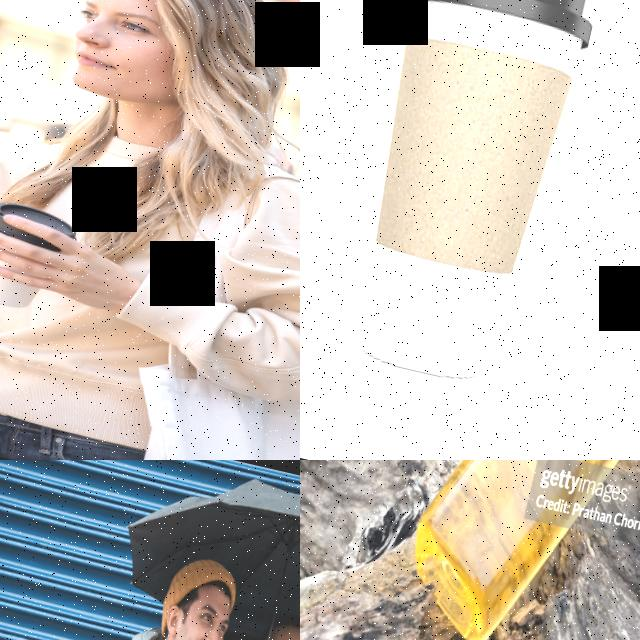bottle: (391, 460, 640, 640)
cup: (320, 0, 610, 397), (0, 194, 85, 319)
